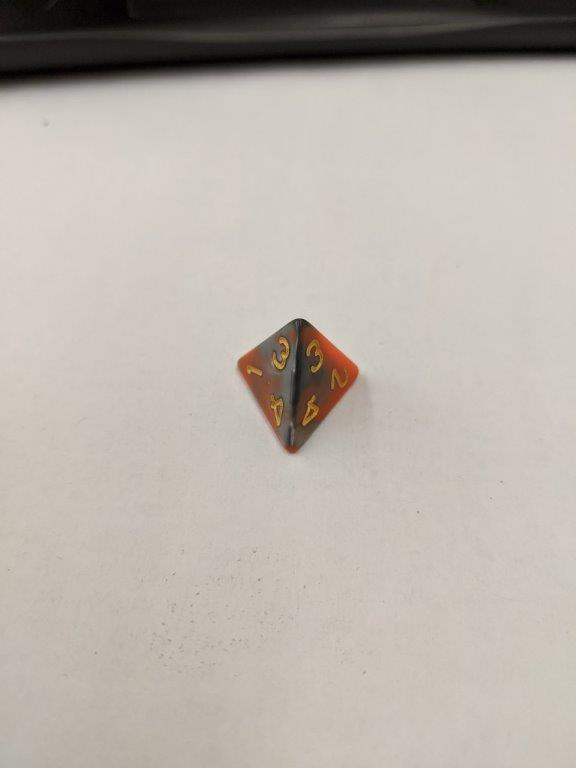d4-3: (231, 316, 361, 455)
